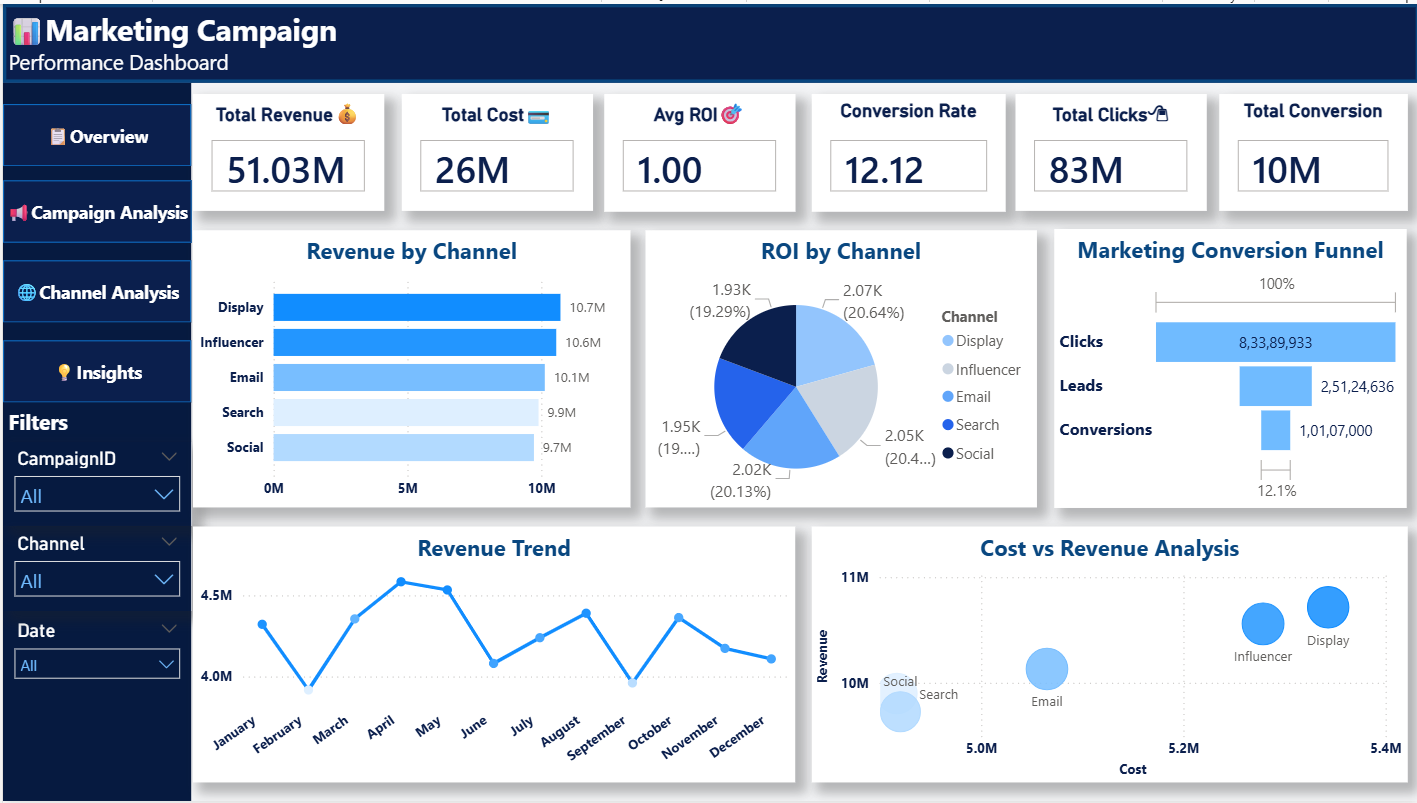

The dashboard page shown, as its layout file describes it:
{"tool":"powerbi","page":{"name":"Overview","canvas":[1280,720],"ordinal":0},"visuals":[{"type":"shape","box":[0,71.1,170,648.9],"z":0},{"type":"textbox","box":[0,0,274.4,71.1],"z":1000},{"type":"shape","box":[0,0,1280,71.1],"z":2000},{"type":"textbox","box":[0,0,342.2,71.1],"z":3000},{"type":"slicer","fields":{"Values":["marketing_campaign_performance_.StartDate.Variation.Date Hierarchy.Year","marketing_campaign_performance_.StartDate.Variation.Date Hierarchy.Quarter","marketing_campaign_performance_.StartDate.Variation.Date Hierarchy.Month"]},"box":[0,551.4,170,71.4],"z":4000},{"type":"cardVisual","title":"Total Revenue💰","fields":{"Data":["marketing_campaign_performance_.TTOTAL REVENUE"]},"box":[171.4,81.4,172.9,105.7],"z":5000},{"type":"cardVisual","title":"Total Cost💳","fields":{"Data":["marketing_campaign_performance_.TOTAL COST"]},"box":[360,81.4,172.9,105.7],"z":6000},{"type":"cardVisual","title":"Avg ROI🎯","fields":{"Data":["marketing_campaign_performance_.AVG ROI"]},"box":[543.1,81.3,172.8,106.1],"z":7000},{"type":"cardVisual","title":"Conversion Rate","fields":{"Data":["marketing_campaign_performance_.CONVERSION RATE"]},"box":[730.6,81.3,175,106.1],"z":8000},{"type":"cardVisual","title":"Total Clicks🖱","fields":{"Data":["marketing_campaign_performance_.TOTAL CLICKS"]},"box":[914.3,81.4,172.9,105.7],"z":9000},{"type":"cardVisual","title":"Total Conversion","fields":{"Data":["marketing_campaign_performance_.TOTAL CONVERSION"]},"box":[1098.6,81.4,170,105.7],"z":10000},{"type":"slicer","fields":{"Values":["marketing_campaign_performance_.CampaignID"]},"box":[0,395.7,170,75.7],"z":11000},{"type":"slicer","fields":{"Values":["marketing_campaign_performance_.Channel"]},"box":[0,471.4,170,75.7],"z":12000},{"type":"textbox","box":[0,360,170,35.7],"z":13000},{"type":"clusteredBarChart","title":"Revenue by Channel","fields":{"Category":["marketing_campaign_performance_.Channel"],"Y":["Sum(marketing_campaign_performance_.Revenue_USD)"]},"box":[171.6,204.4,395.2,250.7],"z":14000},{"type":"pieChart","title":"ROI by Channel","fields":{"Category":["marketing_campaign_performance_.Channel"],"Y":["Sum(marketing_campaign_performance_.ROI)"]},"box":[580.4,204.4,353.4,250.7],"z":15000},{"type":"funnel","title":"Marketing Conversion Funnel","fields":{"Y":["Sum(marketing_campaign_performance_.Clicks)","Sum(marketing_campaign_performance_.Leads)","Sum(marketing_campaign_performance_.Conversions)"]},"box":[949.6,203.2,318.4,251.8],"z":16000},{"type":"lineChart","title":"Revenue Trend","fields":{"Category":["marketing_campaign_performance_.StartDate.Variation.Date Hierarchy.Year","marketing_campaign_performance_.StartDate.Variation.Date Hierarchy.Quarter","marketing_campaign_performance_.StartDate.Variation.Date Hierarchy.Month","marketing_campaign_performance_.StartDate.Variation.Date Hierarchy.Day"],"Y":["marketing_campaign_performance_.TTOTAL REVENUE"]},"box":[171.4,471.4,544.3,231.4],"z":17000},{"type":"scatterChart","title":"Cost vs Revenue Analysis","fields":{"X":["Sum(marketing_campaign_performance_.Cost_USD)"],"Y":["Sum(marketing_campaign_performance_.Revenue_USD)"],"Size":["Sum(marketing_campaign_performance_.Conversions)"],"Series":["marketing_campaign_performance_.Channel"]},"box":[730,471.4,538.6,231.4],"z":18000},{"type":"shape","box":[0,90,170,56.2],"z":19000},{"type":"shape","box":[0,159.2,170.5,56.5],"z":20000},{"type":"shape","box":[0,231.2,170,56.2],"z":21000},{"type":"shape","box":[0,303.8,170,56.2],"z":22000}]}

Visuals, with their boxes on the page's 1280x720 design canvas (x1, y1, x2, y2). These are canvas units, not pixel positions in the 1417x803 screenshot, which may show the page scaled, cropped or inside an application window:
shape: [0, 71, 170, 720]
textbox: [0, 0, 274, 71]
shape: [0, 0, 1280, 71]
textbox: [0, 0, 342, 71]
slicer - marketing_campaign_performance_.StartDate.Variation.Date Hierarchy.Year x marketing_campaign_performance_.StartDate.Variation.Date Hierarchy.Quarter: [0, 551, 170, 623]
"Total Revenue💰" cardVisual: [171, 81, 344, 187]
"Total Cost💳" cardVisual: [360, 81, 533, 187]
"Avg ROI🎯" cardVisual: [543, 81, 716, 187]
"Conversion Rate" cardVisual: [731, 81, 906, 187]
"Total Clicks🖱" cardVisual: [914, 81, 1087, 187]
"Total Conversion" cardVisual: [1099, 81, 1269, 187]
slicer - marketing_campaign_performance_.CampaignID: [0, 396, 170, 471]
slicer - marketing_campaign_performance_.Channel: [0, 471, 170, 547]
textbox: [0, 360, 170, 396]
"Revenue by Channel" clusteredBarChart: [172, 204, 567, 455]
"ROI by Channel" pieChart: [580, 204, 934, 455]
"Marketing Conversion Funnel" funnel: [950, 203, 1268, 455]
"Revenue Trend" lineChart: [171, 471, 716, 703]
"Cost vs Revenue Analysis" scatterChart: [730, 471, 1269, 703]
shape: [0, 90, 170, 146]
shape: [0, 159, 170, 216]
shape: [0, 231, 170, 287]
shape: [0, 304, 170, 360]
